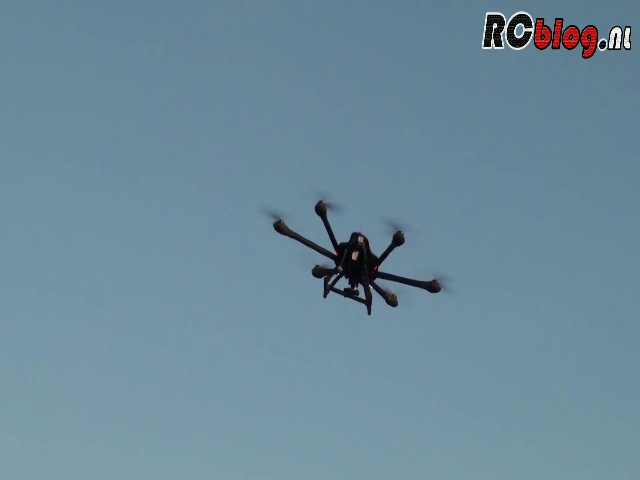drone: (260, 188, 453, 317)
